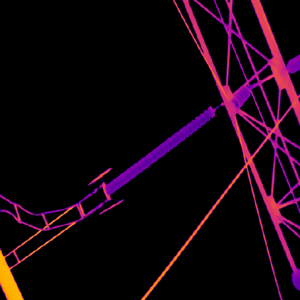insulator: (104, 101, 215, 197), (227, 83, 253, 107)
